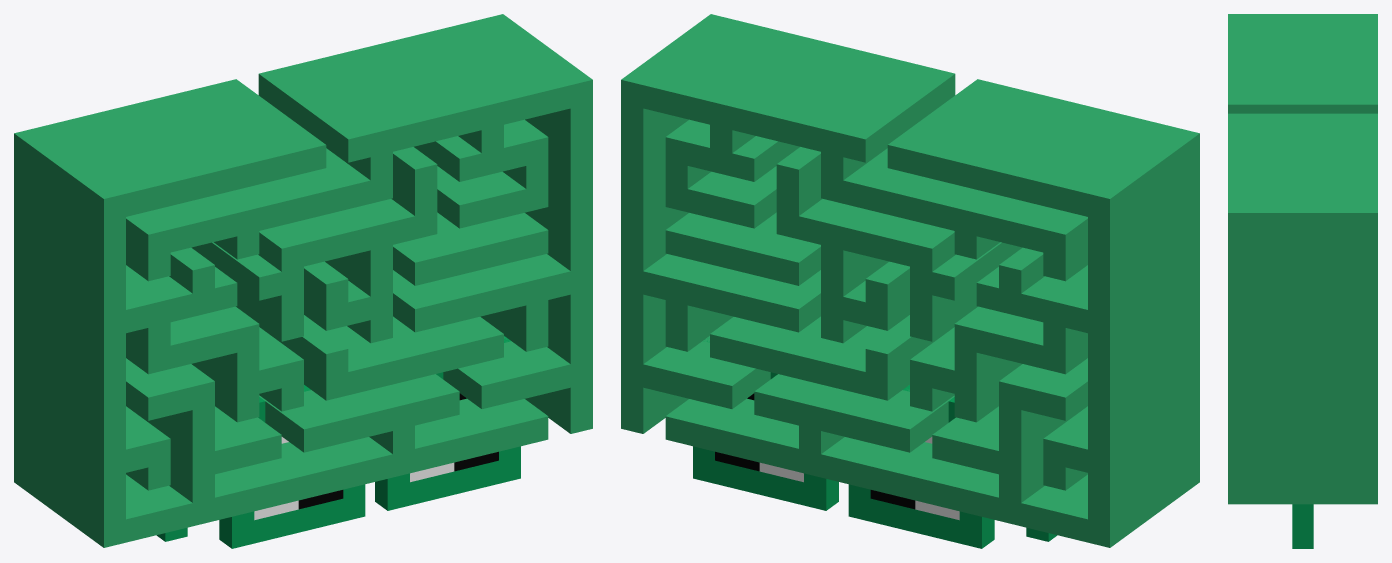
The model's file is maze.glb.
3 renders of one model, left to right at view 1: azimuth 30°, elevation 25°; view 2: azimuth 150°, elevation 25°; view 3: azimuth 270°, elevation 25°, orthographic. The views are drawn at different scales.
Visible parts, largest first — view 1: base, glasses, layer-2; view 2: base, glasses, layer-2; view 3: base, glasses.
Boxes of the visible parts, x1=… form: base: x1=14, y1=14, x2=592, y2=547; glasses: x1=156, y1=336, x2=520, y2=548; layer-2: x1=254, y1=393, x2=498, y2=520; base: x1=621, y1=14, x2=1199, y2=547; glasses: x1=693, y1=338, x2=1057, y2=548; layer-2: x1=715, y1=393, x2=959, y2=520; base: x1=1228, y1=14, x2=1377, y2=504; glasses: x1=1292, y1=504, x2=1313, y2=548.
Size of the model in its own units: 22 by 18 by 7.
5 materials, 5 textured.
